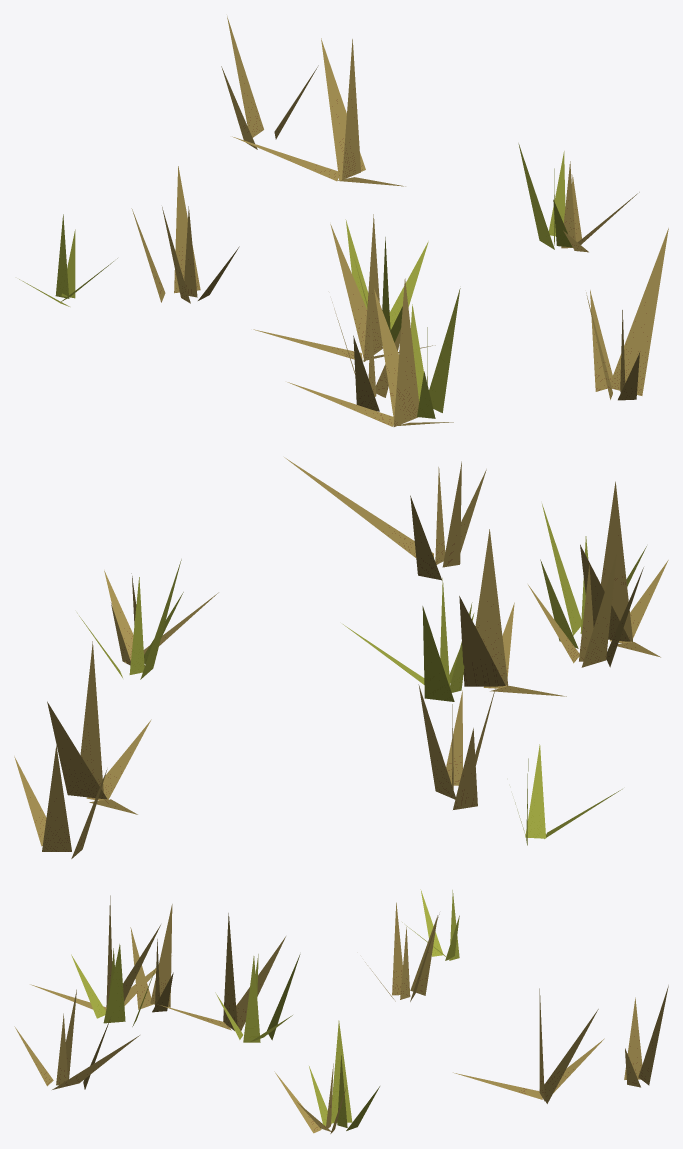
The model's file is grass4LP.obj.
3 renders of one model, top to bottom at view 1: azimuth 30°, elevation 25°; view 2: azimuth 150°, elevation 25°; view 3: azimuth 270°, elevation 25°, orthographic. The views are drawn at different scales.
Visible parts, largest first — view 1: Plane.016_Plane.032, Plane.014; view 2: Plane.016_Plane.032, Plane.014; view 3: Plane.016_Plane.032, Plane.014.
Part boxes in pixels (x1,y1,x2,y2): Plane.016_Plane.032: [131, 16, 668, 426]; Plane.014: [19, 143, 572, 418]; Plane.016_Plane.032: [14, 457, 668, 858]; Plane.014: [77, 504, 646, 845]; Plane.016_Plane.032: [14, 895, 668, 1133]; Plane.014: [71, 889, 459, 1130].
Bounding box in the file's own units: 5.24 × 1.35 × 6.62.
Materials: 2 (2 with a texture image).
